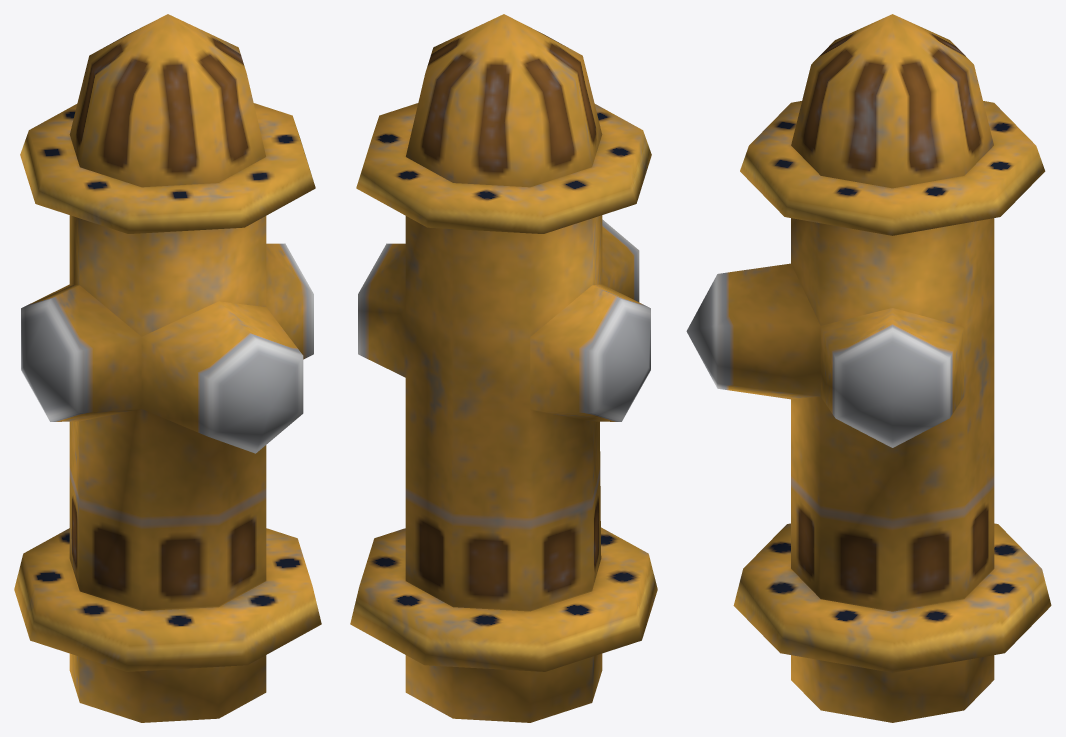
The model's file is sb_obj_ModernCity098_firehy_drant.fbx.
3 views of the same model, side by side, from view 1: azimuth 30°, elevation 25°; view 2: azimuth 150°, elevation 25°; view 3: azimuth 270°, elevation 25° (orthographic).
Visible parts, largest first — view 1: sb_obj_ModernCity098_firehy_drant; view 2: sb_obj_ModernCity098_firehy_drant; view 3: sb_obj_ModernCity098_firehy_drant.
Boxes of the visible parts, <box> form: sb_obj_ModernCity098_firehy_drant: <box>14,14,321,722</box>; sb_obj_ModernCity098_firehy_drant: <box>350,14,657,722</box>; sb_obj_ModernCity098_firehy_drant: <box>686,14,1051,722</box>.
Bounding box in the file's own units: 0.3397 × 0.7516 × 0.3734.
